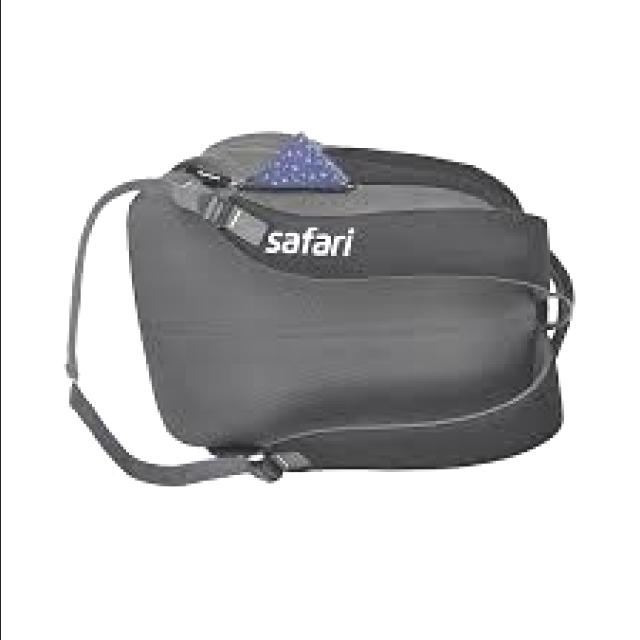backpack: (67, 129, 579, 487)
